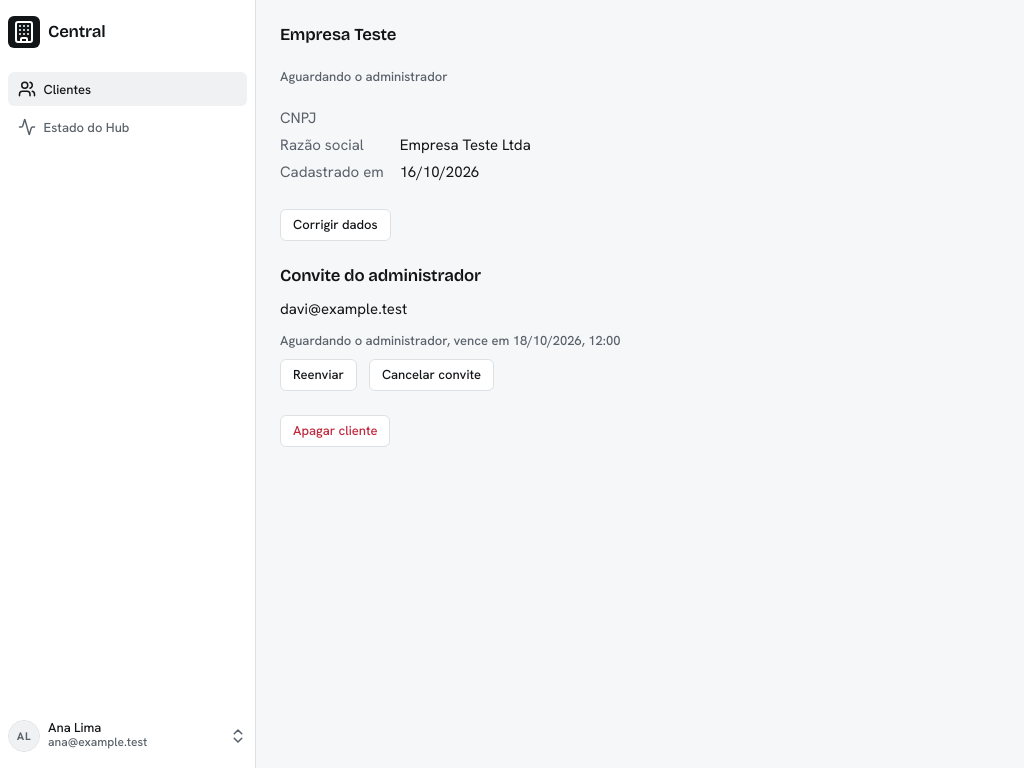
Enter sem o nome não confirma; um nome diferente também não
(page scrolled)
Click the button "Apagar cliente" at point(335, 431), box [280,415,390,447]
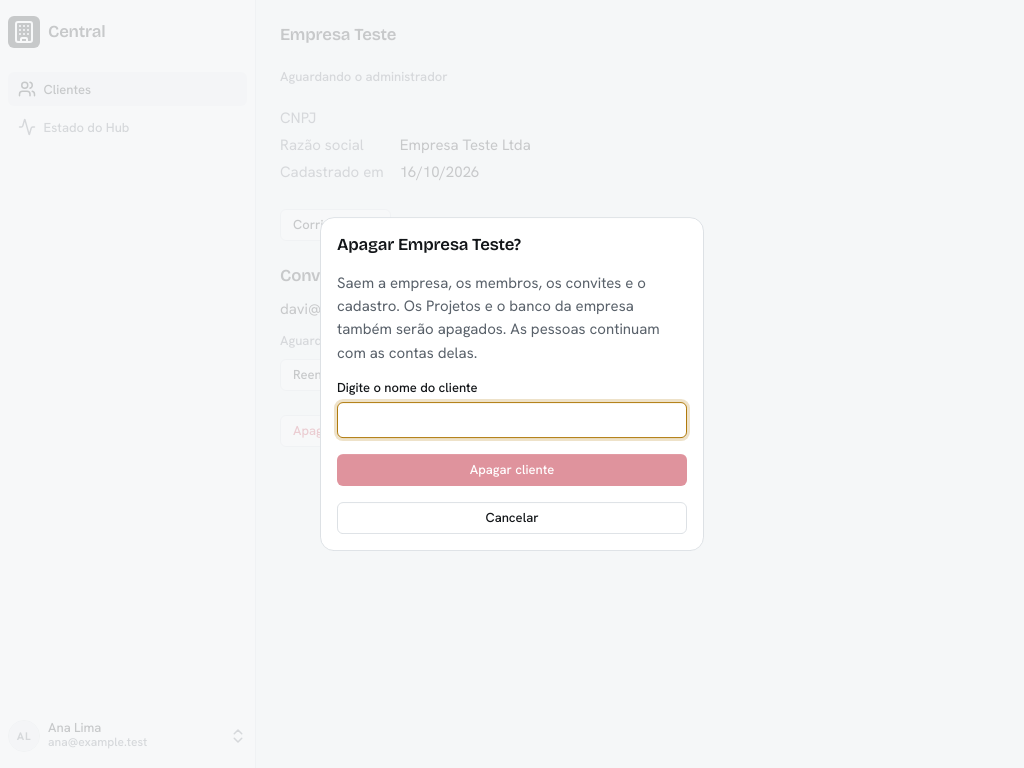
Type "empresa teste" into the field labelled "Digite o nome do cliente" at point(512, 420), box [337,402,687,438]
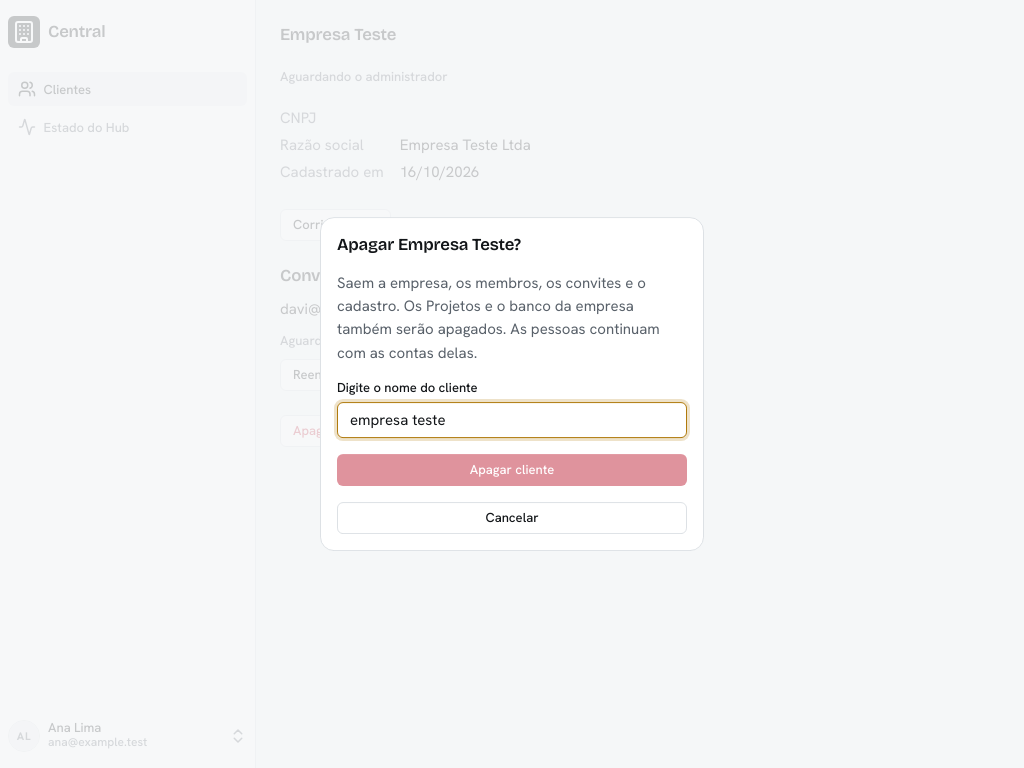
Submit the form labelled "Digite o nome do cliente", box [337,381,687,534]
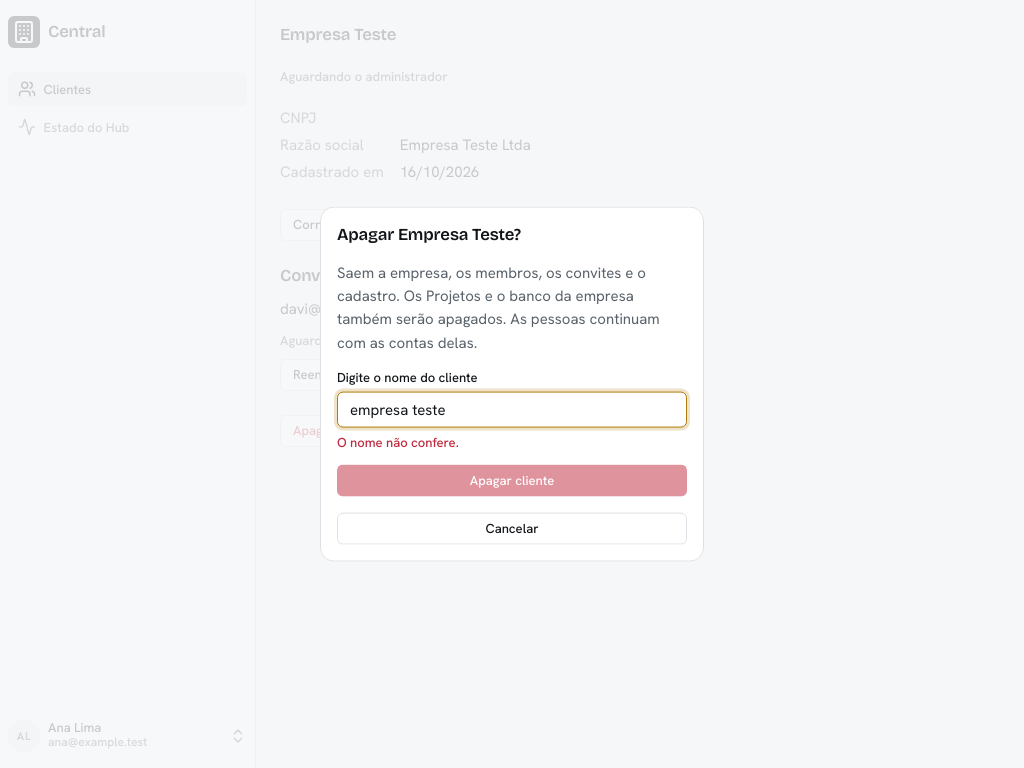
Now the button "Apagar cliente" is disabled, box [337,464,687,496]
Now the text "O nome não confere." is shown, box [337,433,459,450]
